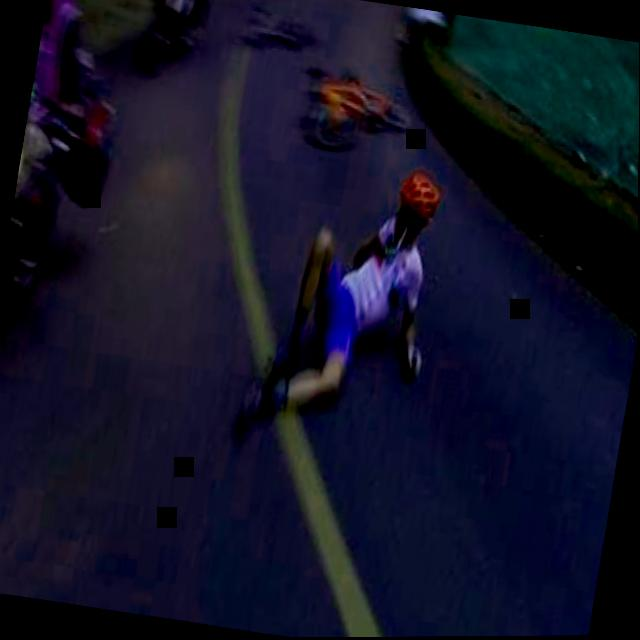Fall-Detected: (228, 119, 467, 466)
